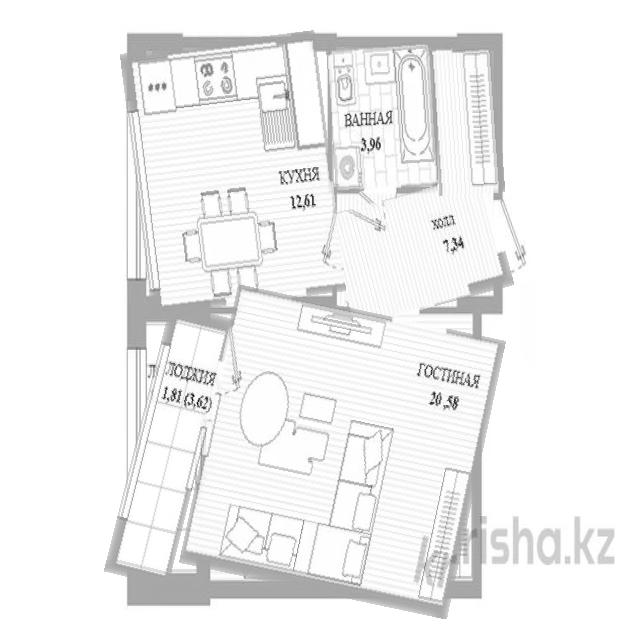balcony: (120, 306, 218, 586)
bathroom: (329, 44, 436, 190)
hallway: (329, 183, 508, 319)
kitchen: (128, 36, 338, 309)
living_room: (193, 296, 493, 606)
other: (431, 40, 503, 195)
